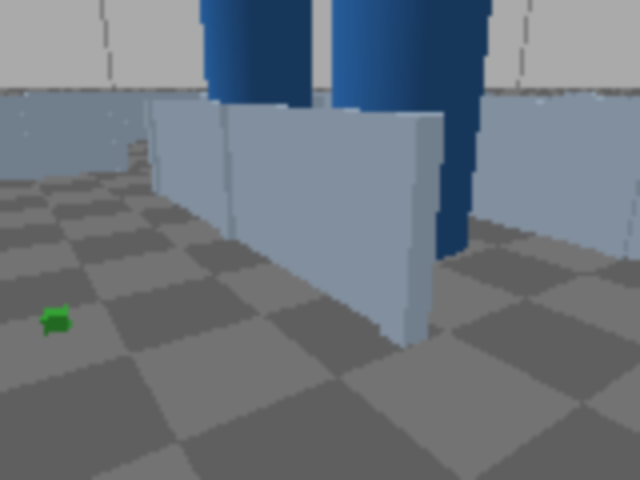puck: (41, 305, 70, 335)
